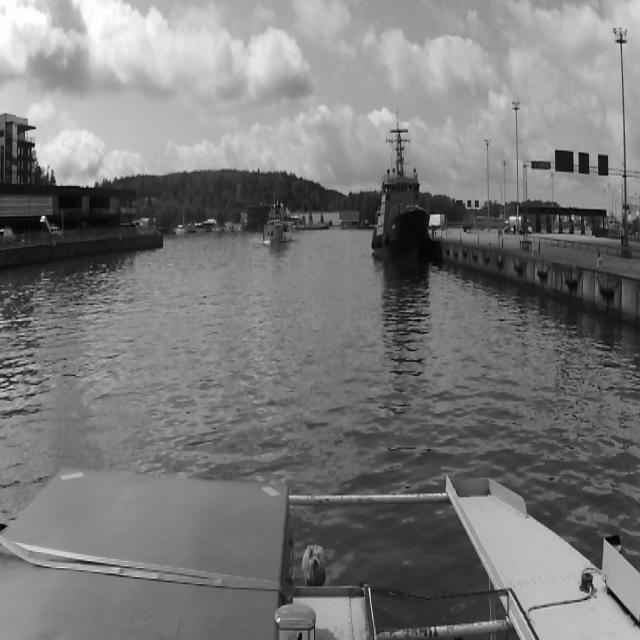ship: (371, 110, 430, 262), (262, 190, 292, 246)
